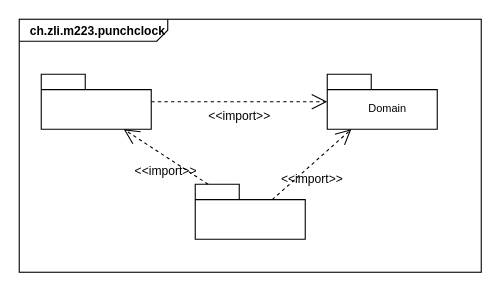
Some shapes in this 501 by 292 pixel diagram are drawn without their labels. Here are the shapes that lost their labels. From the top down, the box of each, then its label:
(40, 73, 151, 129): Service
(194, 183, 305, 239): Controller
